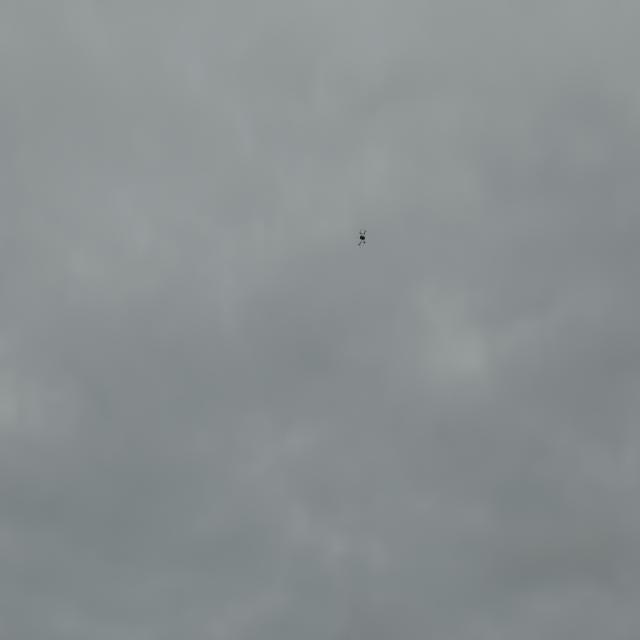drone: (356, 228, 367, 247)
